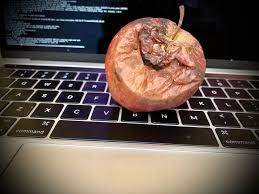damaged_apple: (104, 19, 207, 111)
